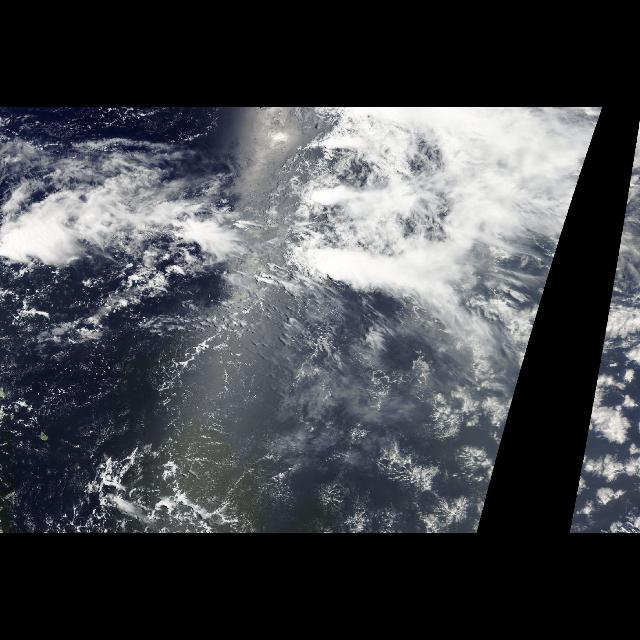Flower: (408, 362, 524, 534), (568, 362, 640, 534)
Gravel: (43, 318, 279, 532)
